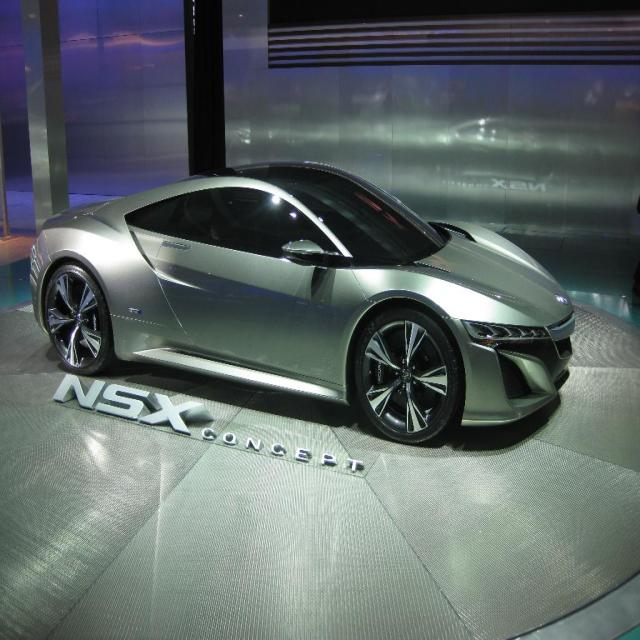car: (25, 156, 580, 446)
